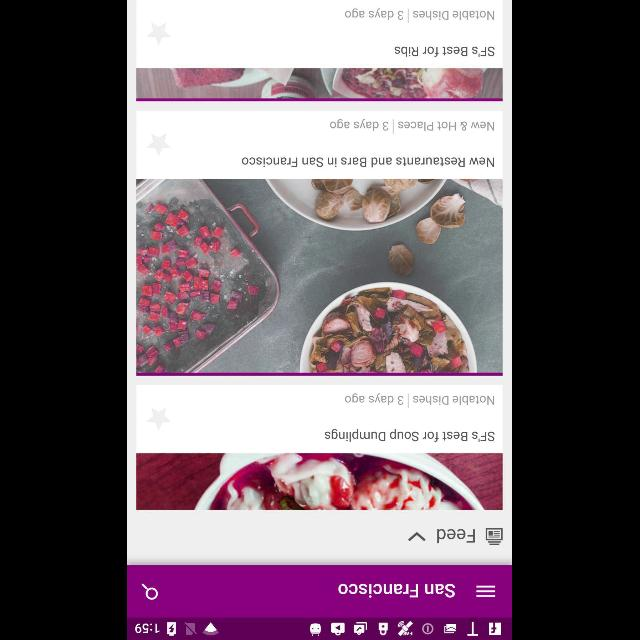icon: (147, 22, 171, 46), (148, 132, 172, 156), (148, 406, 172, 429), (142, 582, 160, 600), (486, 528, 504, 544), (476, 585, 496, 597), (408, 532, 426, 540)
image: (137, 179, 503, 375), (137, 453, 503, 509), (137, 68, 503, 102)
panel: (136, 109, 506, 377), (134, 382, 506, 512), (135, 0, 507, 104)
text: (243, 156, 495, 168), (325, 428, 495, 442), (339, 583, 456, 597), (395, 46, 495, 58), (399, 121, 495, 131), (413, 10, 495, 20), (414, 395, 494, 405), (345, 7, 405, 20), (330, 119, 390, 131), (346, 393, 404, 405), (438, 529, 476, 543)
toolbar: (128, 565, 512, 617)
uppertaskbar: (128, 617, 512, 639)
